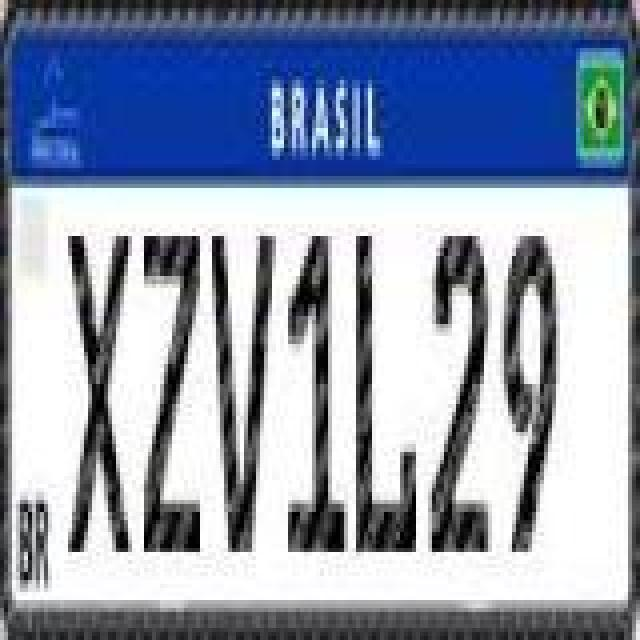1: (284, 230, 348, 554)
2: (430, 230, 490, 554)
9: (496, 226, 560, 550)
L: (352, 230, 416, 554)
V: (210, 230, 278, 554)
X: (66, 230, 126, 554)
Z: (142, 230, 202, 554)
